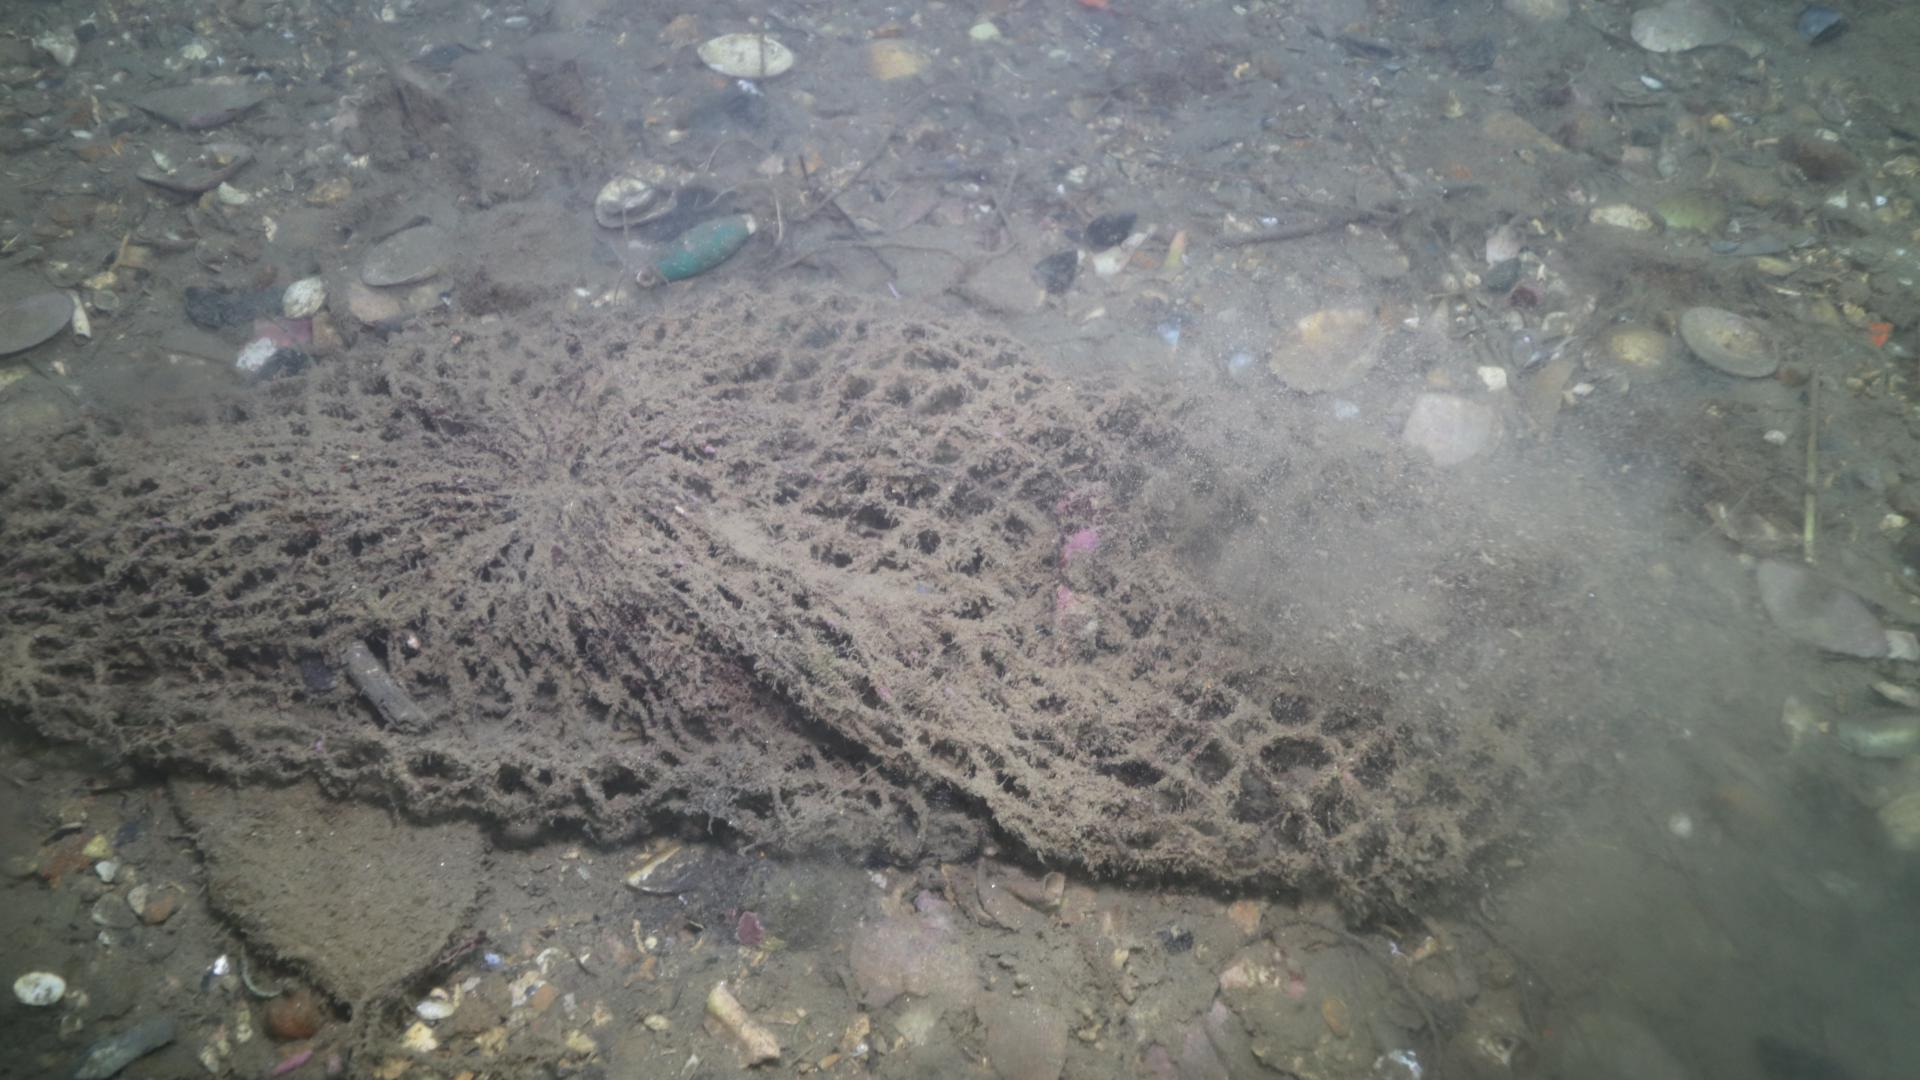fish net: (0, 290, 1582, 884)
